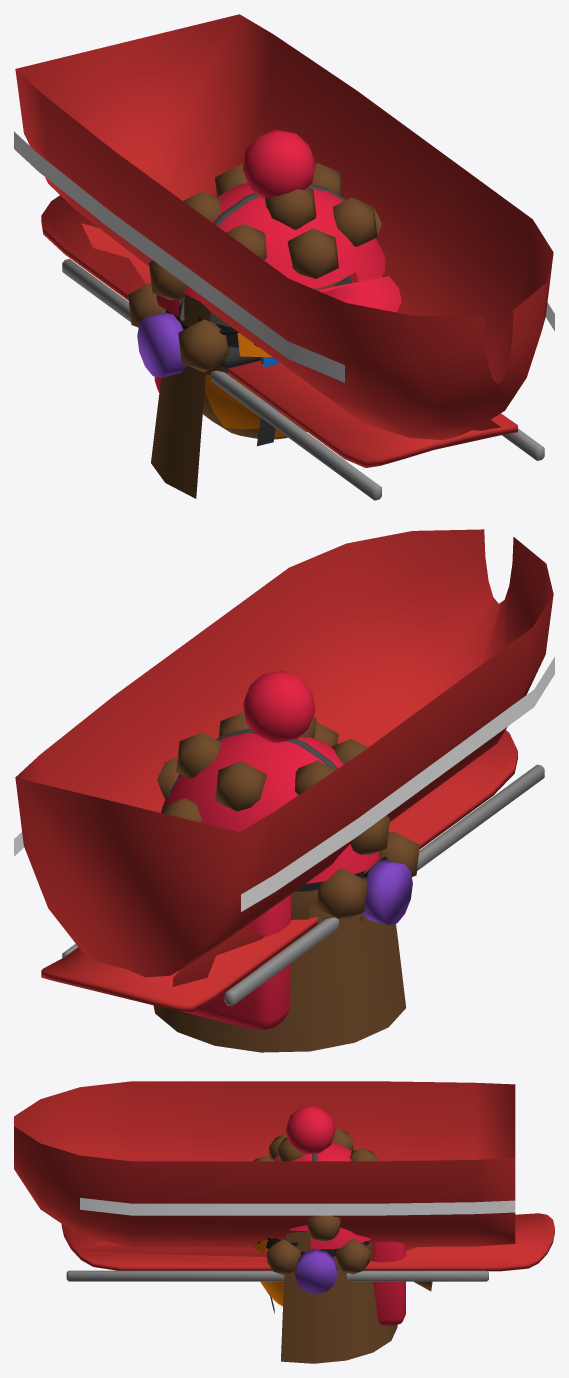
File: skier-accessories.glb
The picture shows the model from 3 angles, top to bottom: view 1: azimuth 30°, elevation 25°; view 2: azimuth 150°, elevation 25°; view 3: azimuth 270°, elevation 25°; orthographic projection. The views are drawn at different scales.
Visible parts, largest first — view 1: gear_bobsled, gear_snowboard, hair_curly, hat_beanie, hair_long, pom_large, earmuffs, hat_cap, mask, goggles, beard_full; view 2: gear_bobsled, hair_long, gear_snowboard, hair_curly, hat_beanie, backpack, pom_large, earmuffs; view 3: gear_bobsled, gear_snowboard, hair_long, hair_curly, backpack, pom_large, earmuffs, hat_beanie, mask.
Part boxes in pixels (left/top/right/bottom): gear_bobsled: left=14, top=14, right=554, bottom=500; gear_snowboard: left=41, top=195, right=517, bottom=467; hair_curly: left=128, top=163, right=381, bottom=372; hat_beanie: left=156, top=182, right=385, bottom=317; hair_long: left=151, top=276, right=348, bottom=498; pom_large: left=243, top=129, right=315, bottom=198; earmuffs: left=137, top=184, right=346, bottom=377; hat_cap: left=312, top=276, right=401, bottom=312; mask: left=204, top=374, right=306, bottom=437; goggles: left=166, top=277, right=381, bottom=357; beard_full: left=202, top=365, right=287, bottom=439; gear_bobsled: left=14, top=529, right=554, bottom=1006; hair_long: left=153, top=860, right=406, bottom=1052; gear_snowboard: left=41, top=730, right=517, bottom=1011; hair_curly: left=157, top=712, right=419, bottom=920; hat_beanie: left=161, top=732, right=379, bottom=883; backpack: left=181, top=894, right=291, bottom=1029; pom_large: left=243, top=670, right=315, bottom=742; earmuffs: left=216, top=728, right=412, bottom=925; gear_bobsled: left=14, top=1081, right=515, bottom=1281; gear_snowboard: left=61, top=1213, right=554, bottom=1271; hair_long: left=281, top=1231, right=397, bottom=1363; hair_curly: left=254, top=1128, right=378, bottom=1275; backpack: left=269, top=1242, right=405, bottom=1325; pom_large: left=285, top=1106, right=335, bottom=1154; earmuffs: left=295, top=1153, right=337, bottom=1294; hat_beanie: left=274, top=1142, right=370, bottom=1249; mask: left=260, top=1281, right=283, bottom=1306.
Size of the model in its own units: 0.728 by 0.9168 by 2.05.
